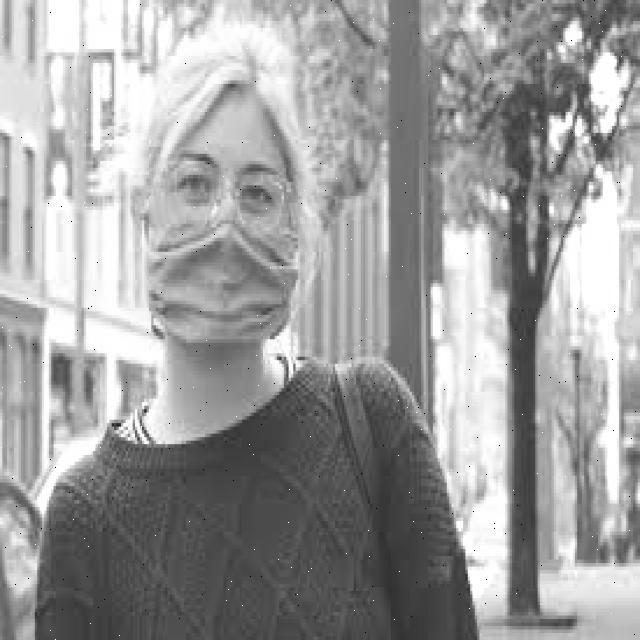fake: (124, 190, 340, 379)
real: (149, 99, 303, 361)
